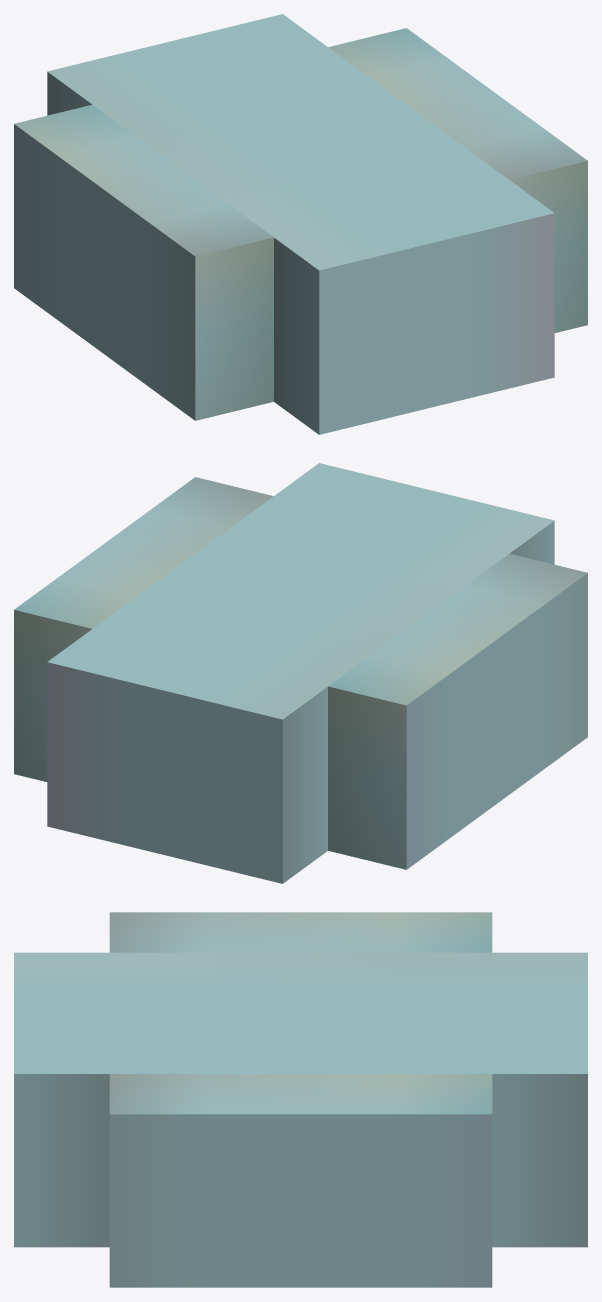
File: PillowSmallGreen_00.fbx
The picture shows the model from 3 angles, top to bottom: view 1: azimuth 30°, elevation 25°; view 2: azimuth 150°, elevation 25°; view 3: azimuth 270°, elevation 25°; orthographic projection. The views are drawn at different scales.
Visible parts, largest first — view 1: PillowSmallGreen_00; view 2: PillowSmallGreen_00; view 3: PillowSmallGreen_00.
Boxes of the visible parts, <box> form: PillowSmallGreen_00: <box>14,14,587,434</box>; PillowSmallGreen_00: <box>14,463,587,883</box>; PillowSmallGreen_00: <box>14,912,587,1287</box>.
Size of the model in its own units: 25 by 30 by 10.
1 material, 1 textured.
